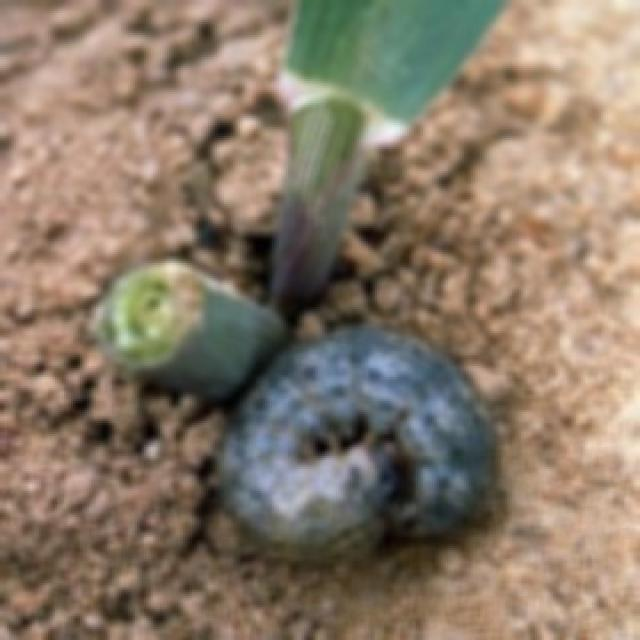black cutworm: (220, 335, 524, 548)
